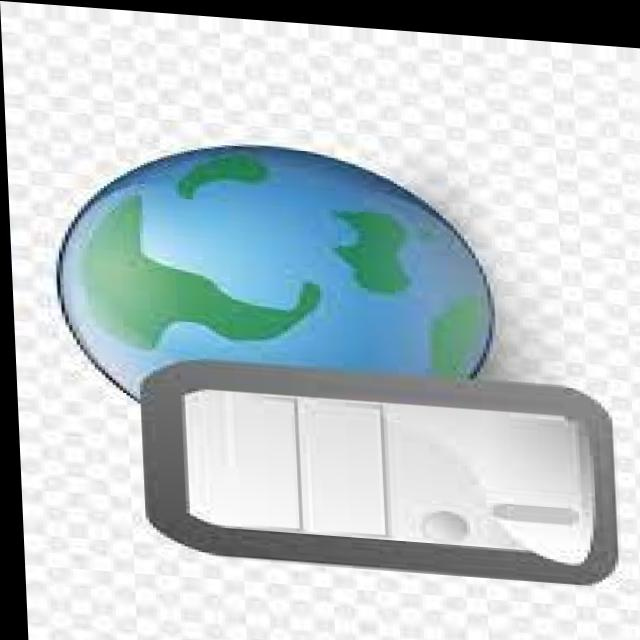WebServer: (5, 61, 640, 640)
